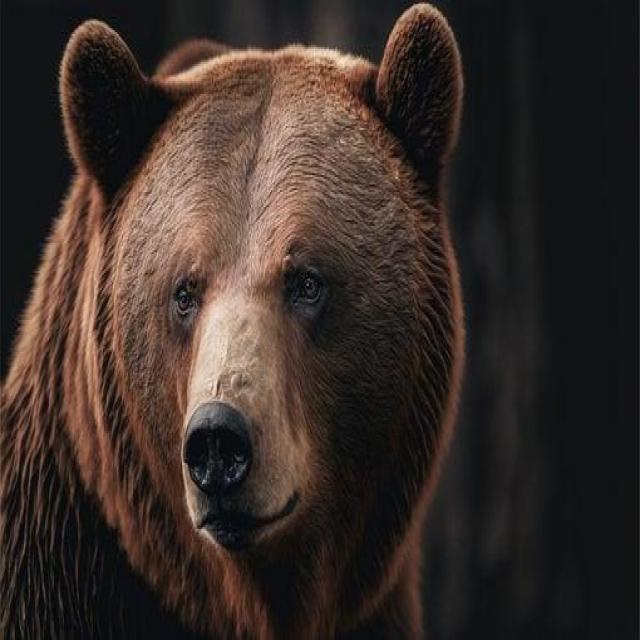Bear: (0, 4, 467, 640)
